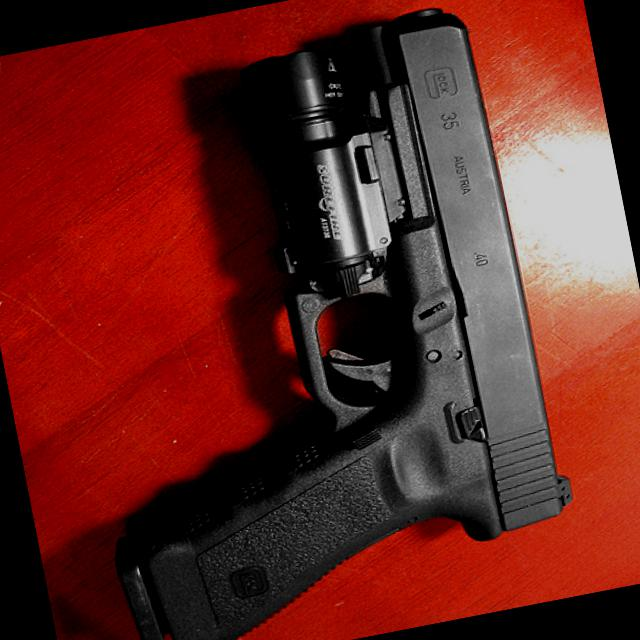handgun: (26, 0, 593, 639)
